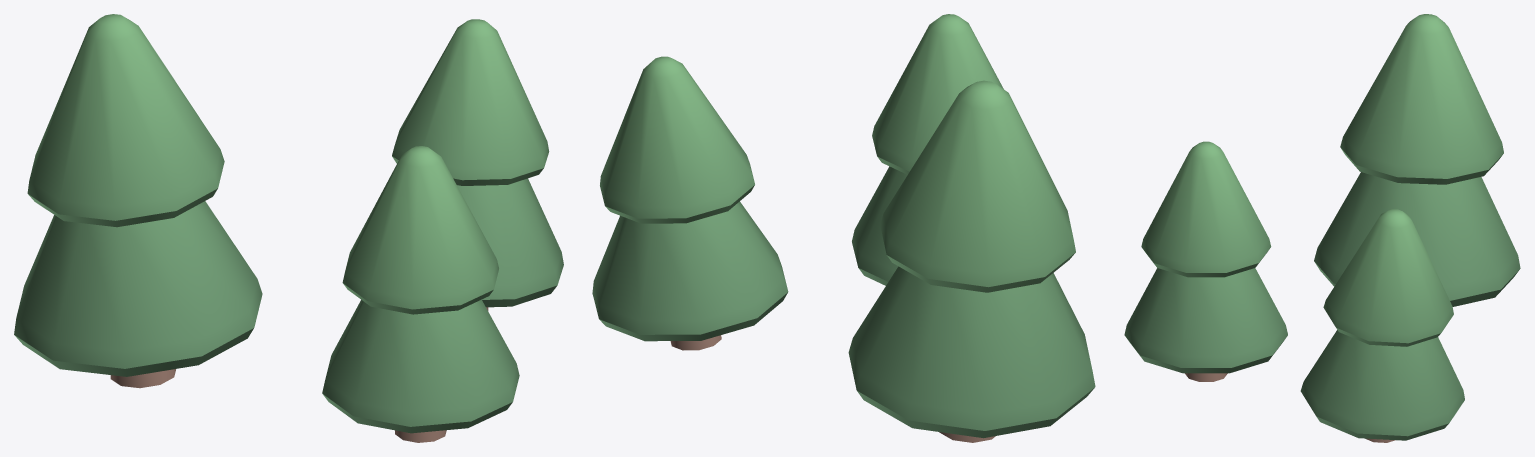
The model's file is trees_round_small.gltf.
3 views of the same model, side by side, from view 1: azimuth 30°, elevation 25°; view 2: azimuth 150°, elevation 25°; view 3: azimuth 270°, elevation 25° (orthographic). The views are drawn at different scales.
Parts seen in each view (by area): view 1: trees_round_small; view 2: trees_round_small; view 3: trees_round_small.
Boxes of the visible parts, box(x1,y1,x2,y2) form: trees_round_small: box(14, 14, 563, 442); trees_round_small: box(592, 14, 1095, 442); trees_round_small: box(1124, 14, 1520, 442).
Bounding box in the file's own units: 1.33 × 0.9219 × 1.14.
